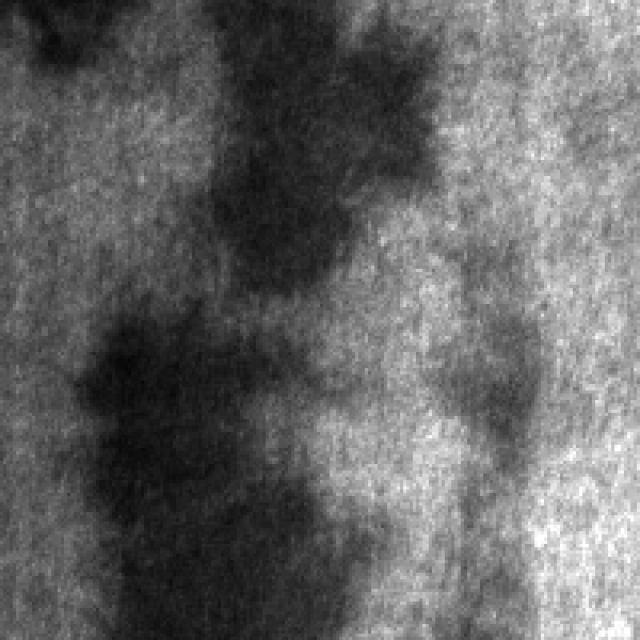patches: (74, 314, 346, 634), (202, 0, 422, 282), (0, 0, 134, 67)
